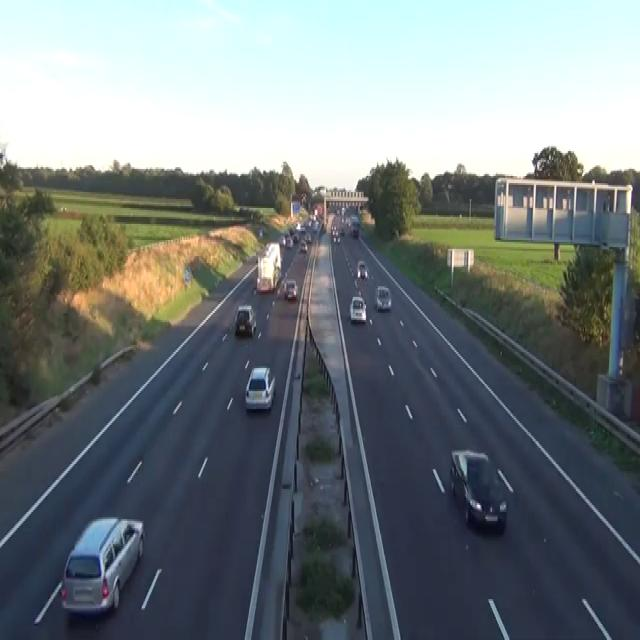Car: (60, 515, 145, 617), (449, 448, 507, 532), (244, 366, 276, 411), (234, 304, 256, 336), (349, 295, 366, 324), (375, 285, 391, 311), (283, 279, 297, 301), (348, 215, 359, 238), (356, 260, 368, 279), (288, 228, 299, 244), (350, 213, 360, 226), (332, 226, 340, 242), (285, 235, 293, 249), (299, 240, 307, 252), (295, 222, 305, 231), (0, 149, 5, 167), (278, 235, 286, 245), (304, 233, 312, 242), (352, 226, 358, 238), (340, 224, 345, 235), (293, 233, 298, 243), (259, 228, 263, 236)
Truck: (256, 242, 281, 292)
